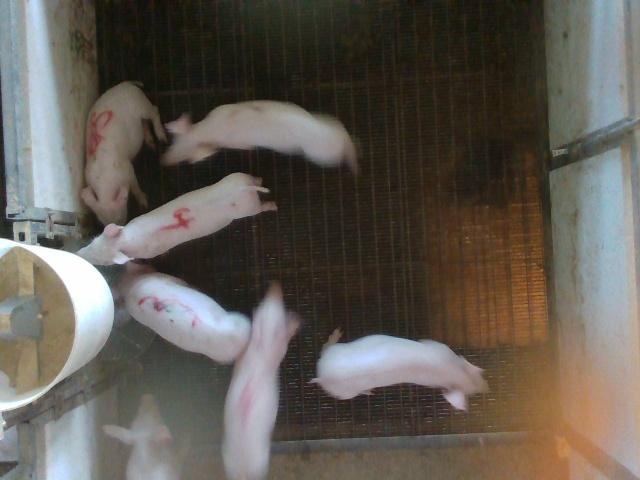pig-1: (222, 282, 300, 478)
pig-2: (162, 100, 356, 172)
pig-3: (119, 261, 251, 362)
pig-4: (78, 172, 276, 265)
pig-5: (81, 81, 166, 225)
